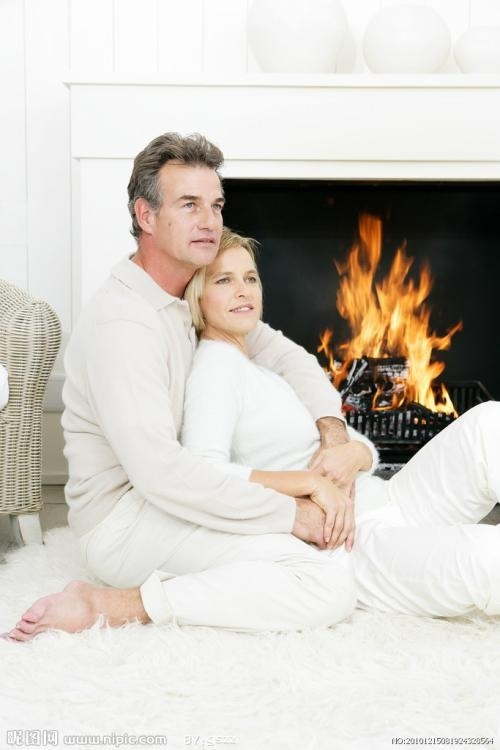fire: (321, 210, 462, 418)
